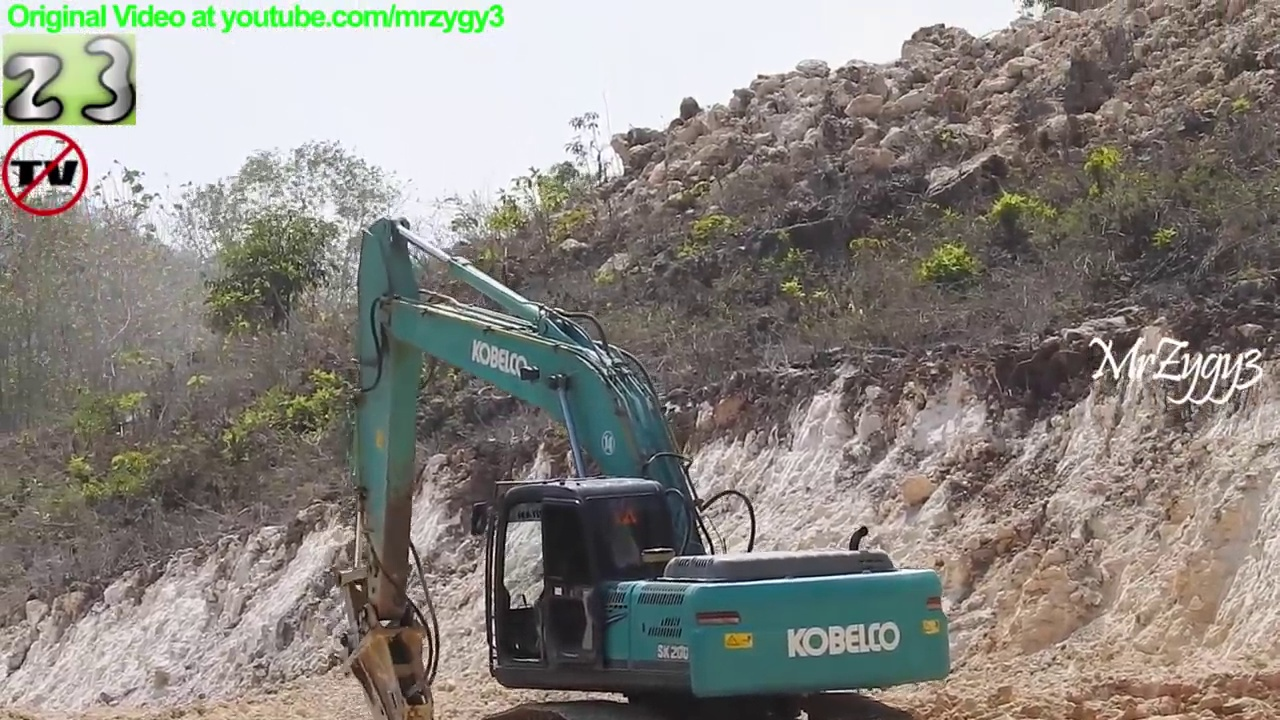excavator: (331, 213, 957, 720)
